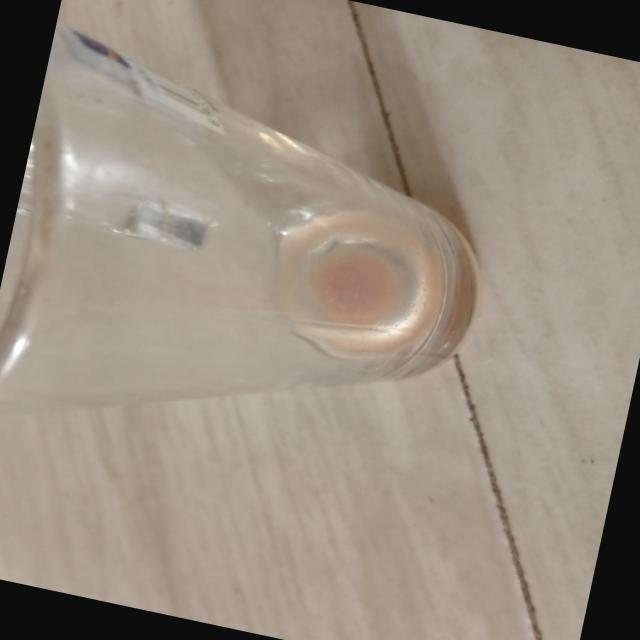glass-VX4N: (0, 6, 510, 522)
